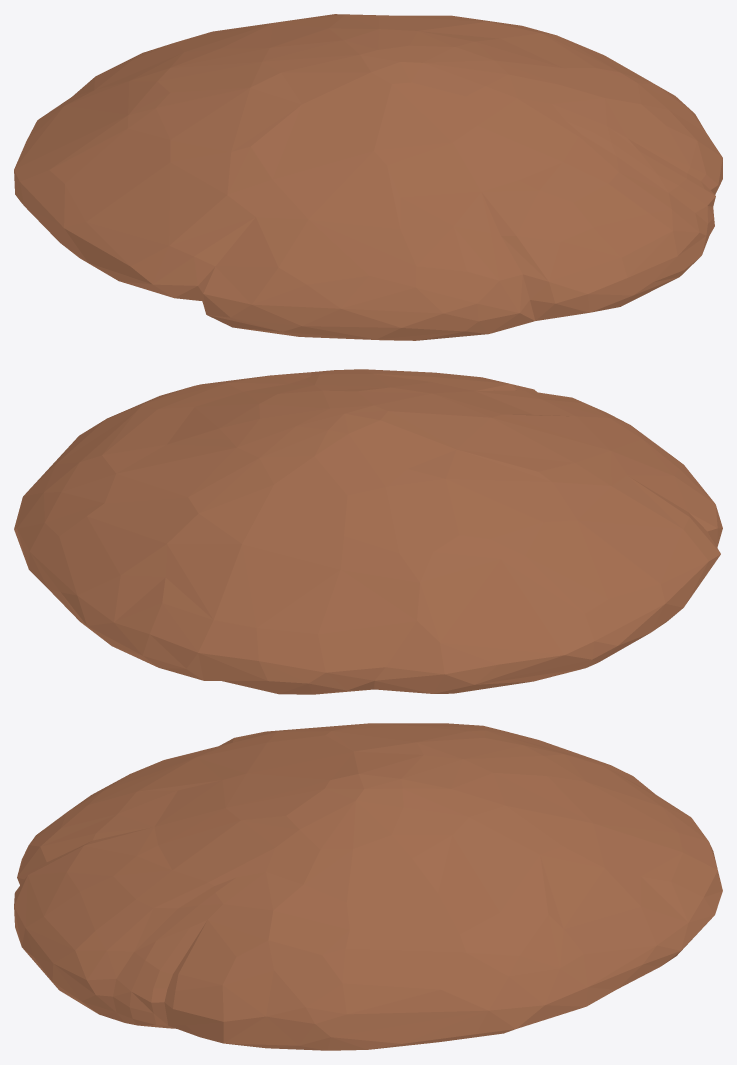
File: SM_Env_Mushroom_Cap_04.gltf
The picture shows the model from 3 angles, top to bottom: view 1: azimuth 30°, elevation 25°; view 2: azimuth 150°, elevation 25°; view 3: azimuth 270°, elevation 25°; orthographic projection. The views are drawn at different scales.
Parts seen in each view (by area): view 1: SM_Env_Mushroom_Cap_04_LOD0; view 2: SM_Env_Mushroom_Cap_04_LOD0; view 3: SM_Env_Mushroom_Cap_04_LOD0.
Part boxes in pixels (bbox=[...]): SM_Env_Mushroom_Cap_04_LOD0: bbox=[14, 14, 722, 340]; SM_Env_Mushroom_Cap_04_LOD0: bbox=[14, 369, 722, 694]; SM_Env_Mushroom_Cap_04_LOD0: bbox=[14, 723, 722, 1050].
Bounding box in the file's own units: 4.23 × 0.9822 × 4.28.
Materials: 1 (1 with a texture image).
